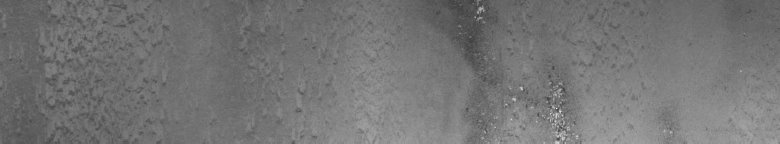hc: (458, 4, 592, 136)
